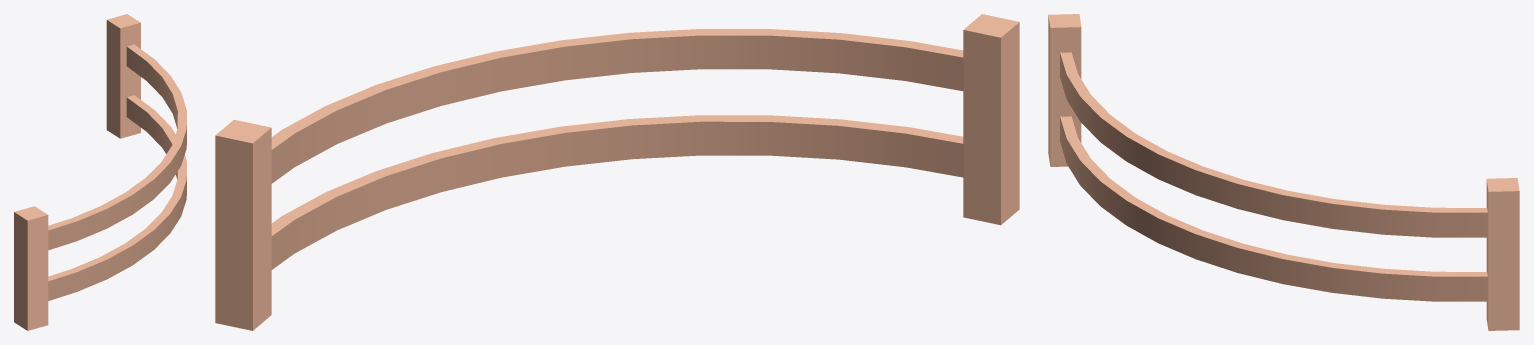
The model's file is fence.glb.
3 renders of one model, left to right at view 1: azimuth 30°, elevation 25°; view 2: azimuth 150°, elevation 25°; view 3: azimuth 270°, elevation 25°, orthographic. The views are drawn at different scales.
Parts seen in each view (by area): view 1: fence.aed; view 2: fence.aed; view 3: fence.aed.
Part boxes in pixels (x1=…): fence.aed: x1=14, y1=14, x2=186, y2=330; fence.aed: x1=215, y1=14, x2=1019, y2=330; fence.aed: x1=1048, y1=14, x2=1519, y2=330.
Size of the model in its own units: 0.9459 by 0.345 by 1.06.
